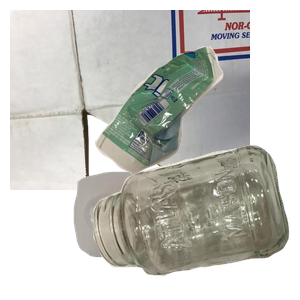cardboard: (10, 10, 250, 190)
glass: (91, 143, 300, 300)
plastic: (71, 169, 275, 300)
trash: (92, 44, 300, 211)
